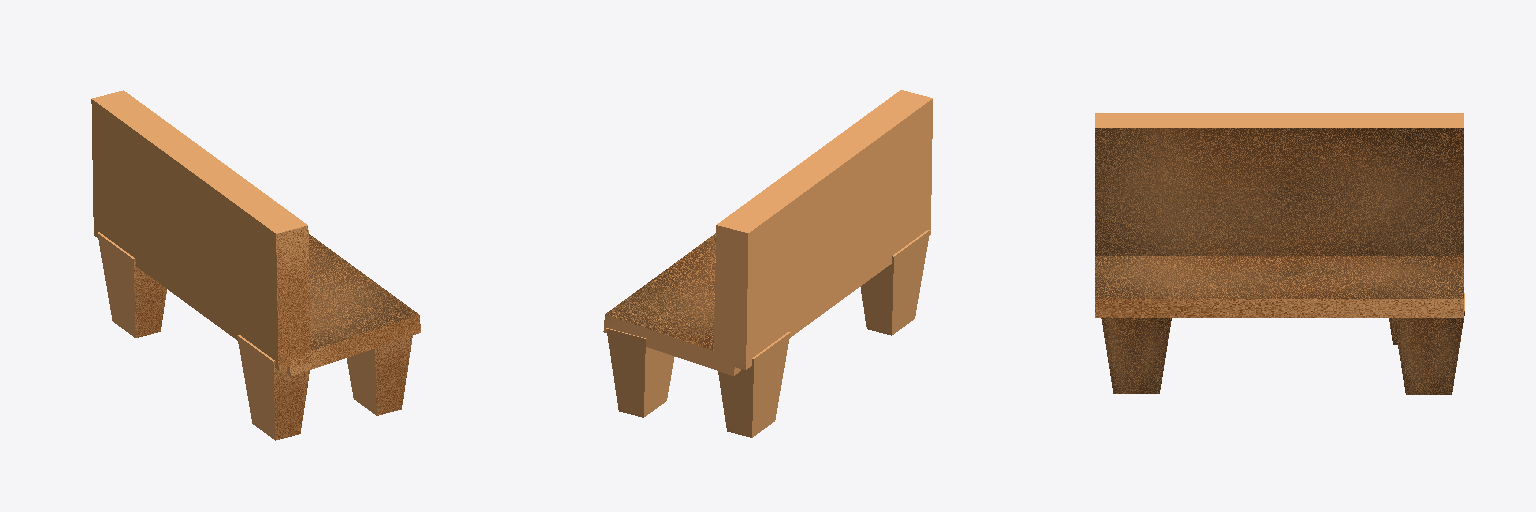
3 renders of one model, left to right at view 1: azimuth 30°, elevation 25°; view 2: azimuth 150°, elevation 25°; view 3: azimuth 270°, elevation 25°, orthographic.
Parts seen in each view (by area): view 1: Cube.003; view 2: Cube.003; view 3: Cube.003.
Boxes of the visible parts, x1=… form: Cube.003: x1=91, y1=90, x2=420, y2=440; Cube.003: x1=603, y1=90, x2=932, y2=437; Cube.003: x1=1095, y1=113, x2=1464, y2=394.
Bounding box in the file's own units: 1.93 × 2.76 × 4.28.
6 materials, 1 textured.